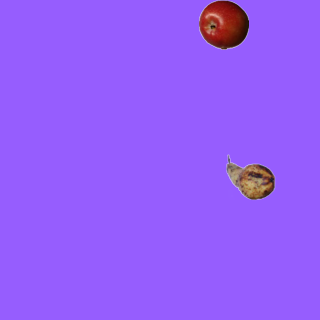Apple Braeburn: (198, 0, 248, 49)
Pear Abate: (225, 152, 275, 202)
